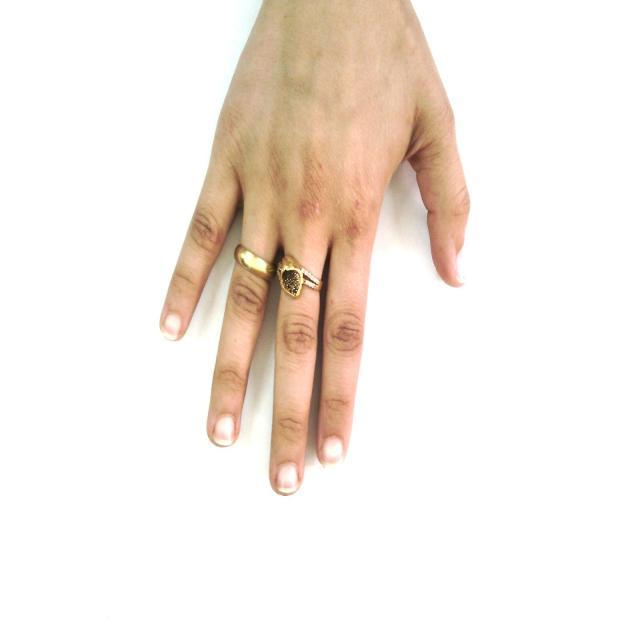Fingernail: (276, 463, 298, 494), (213, 415, 235, 445), (322, 437, 343, 465), (163, 315, 182, 339), (457, 254, 464, 281)
